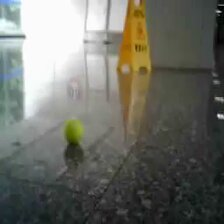tennis: (62, 118, 83, 142)
